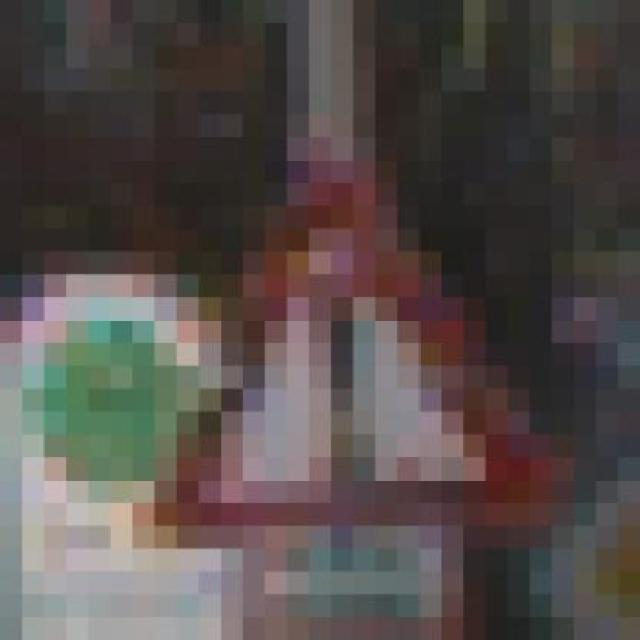Attention Please-: (89, 91, 552, 548)
